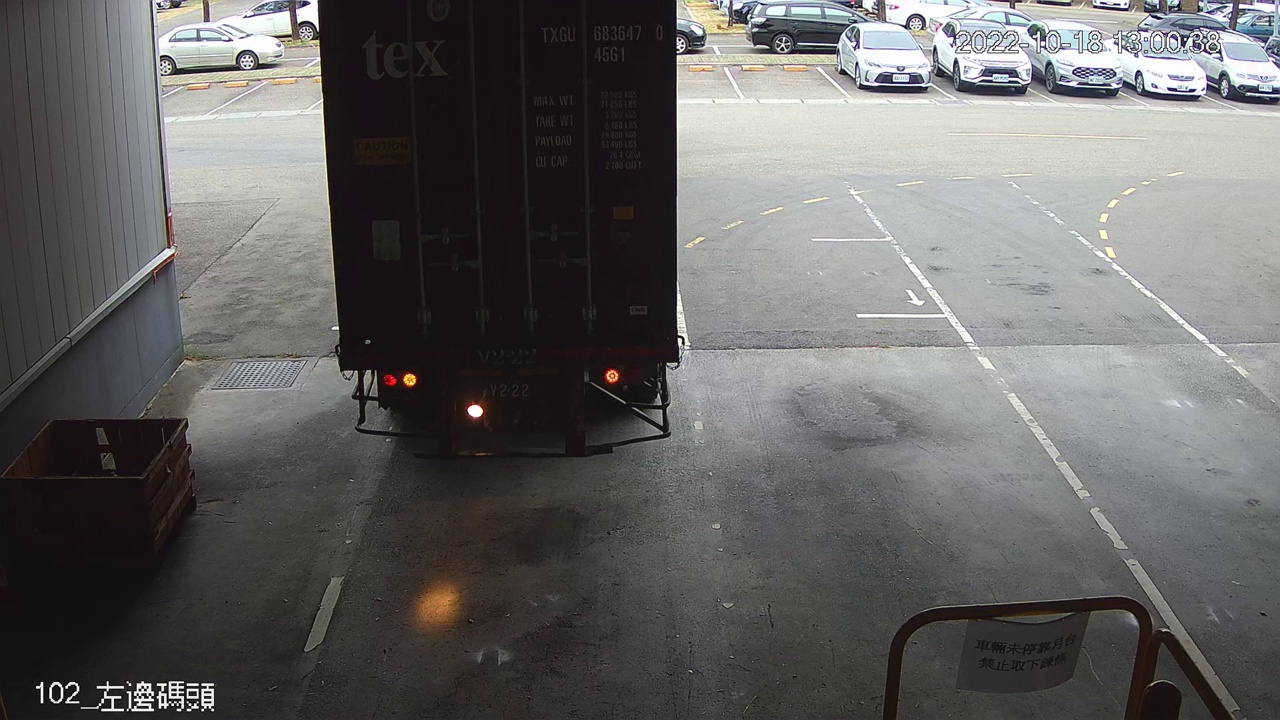container: (534, 17, 668, 68)
